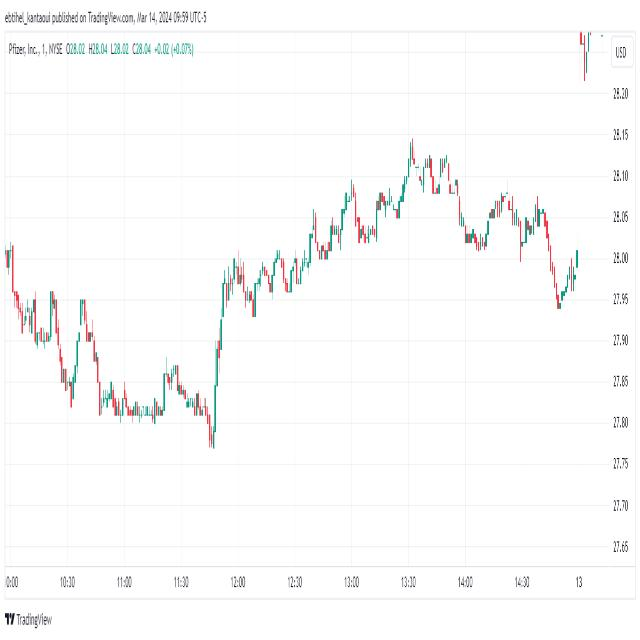Triple-Top: (399, 137, 459, 200)
